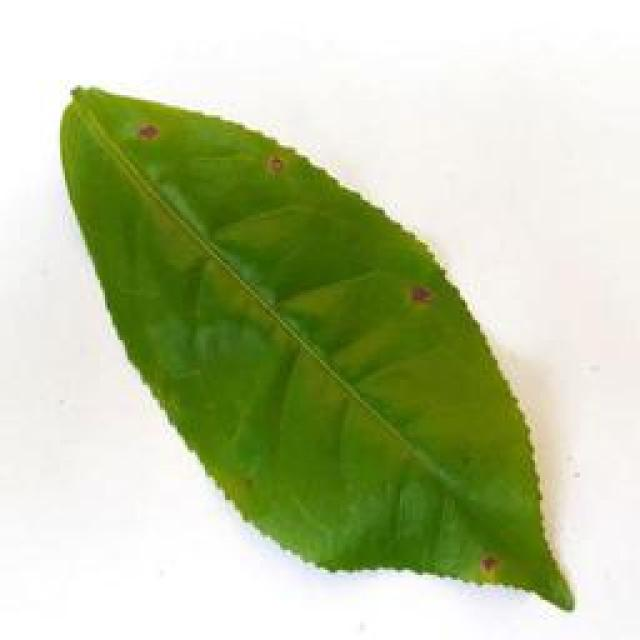Helopeltis: (60, 62, 586, 622)
